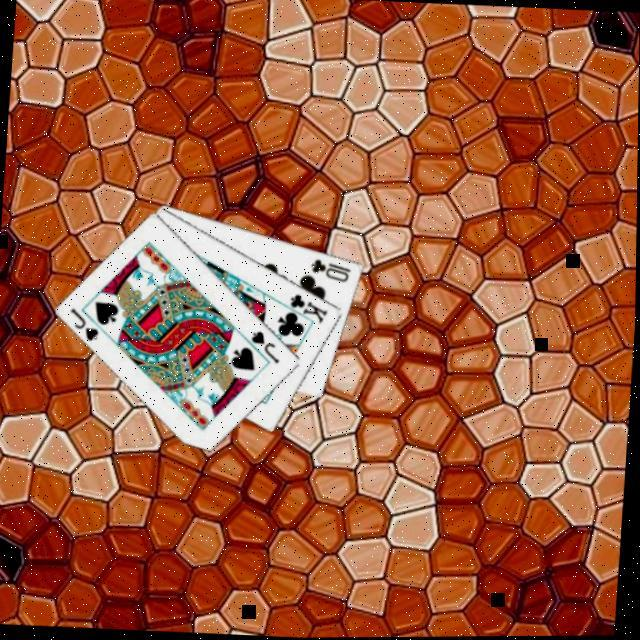10C: (310, 254, 358, 284)
JS: (249, 326, 287, 366), (68, 303, 106, 343)
KC: (281, 288, 335, 326)
